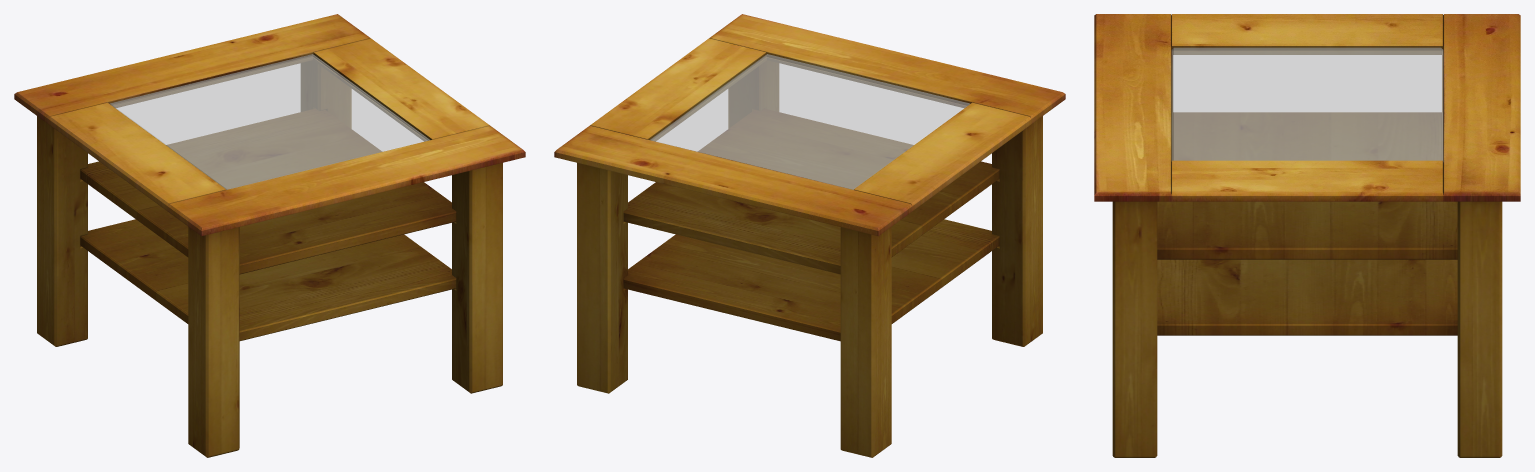
Rendered from table.dae.
The picture shows the model from 3 angles, left to right: view 1: azimuth 30°, elevation 25°; view 2: azimuth 150°, elevation 25°; view 3: azimuth 270°, elevation 25°; orthographic projection. The views are drawn at different scales.
Visible parts, largest first — view 1: Wood_Table; view 2: Wood_Table; view 3: Wood_Table.
Part boxes in pixels (x1,y1,x2,y2): Wood_Table: [14, 14, 525, 457]; Wood_Table: [554, 14, 1065, 457]; Wood_Table: [1094, 14, 1520, 457].
Size of the model in its own units: 0.6601 by 0.6601 by 0.4664.
2 materials, 1 textured.
